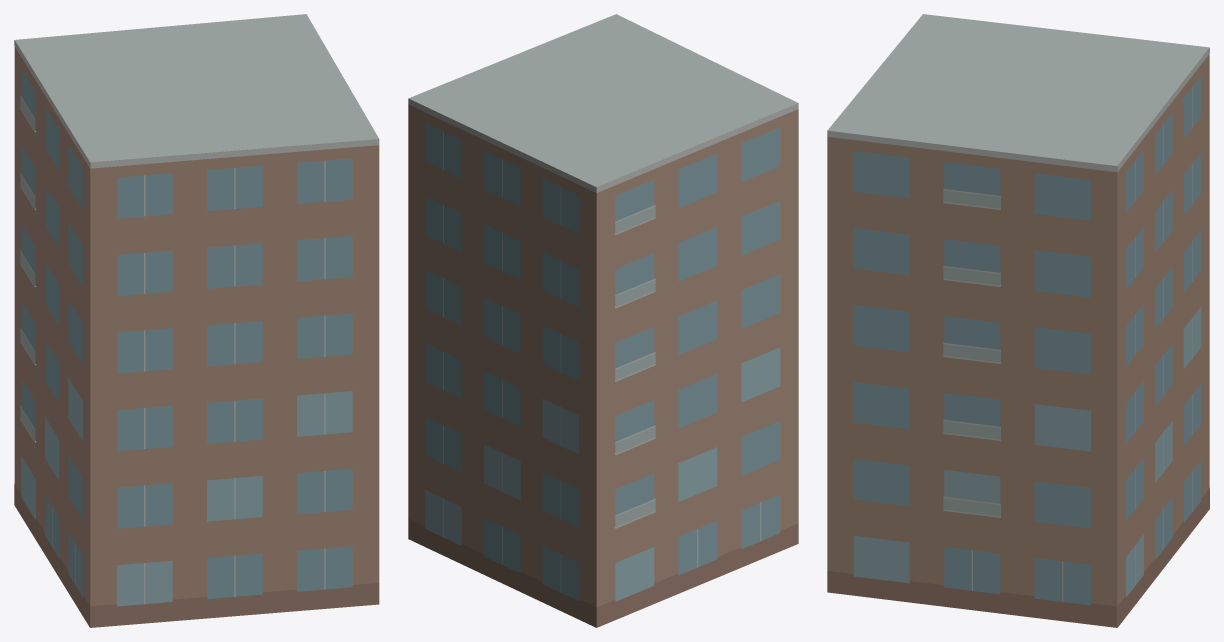
File: survey-upis-32932541.glb
3 views of the same model, side by side, from view 1: azimuth 30°, elevation 25°; view 2: azimuth 150°, elevation 25°; view 3: azimuth 270°, elevation 25° (orthographic). The views are drawn at different scales.
Parts seen in each view (by area): view 1: survey-upis-32932541.tmp; view 2: survey-upis-32932541.tmp; view 3: survey-upis-32932541.tmp.
Part boxes in pixels (box(x1,y1,x2,y2)): survey-upis-32932541.tmp: box(14, 14, 379, 627); survey-upis-32932541.tmp: box(408, 14, 798, 627); survey-upis-32932541.tmp: box(827, 14, 1209, 627).
Size of the model in its own units: 13.09 by 18.5 by 13.9.
